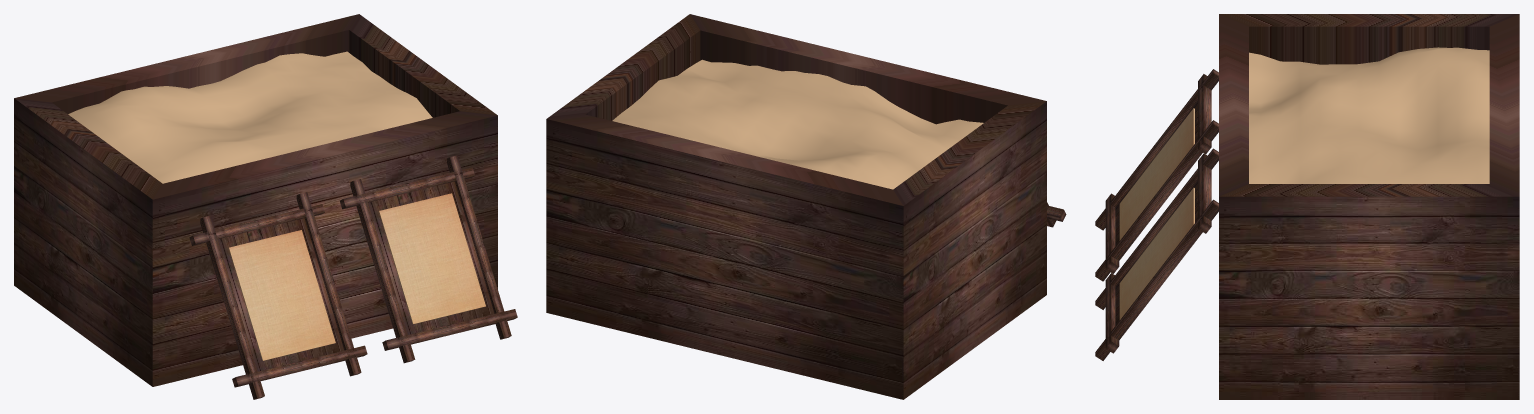
Rendered from 造纸术.fbx.
3 renders of one model, left to right at view 1: azimuth 30°, elevation 25°; view 2: azimuth 150°, elevation 25°; view 3: azimuth 270°, elevation 25°, orthographic. The views are drawn at different scales.
Parts seen in each view (by area): view 1: Box001, Box002, Box010, Box008, Box009, Box004; view 2: Box001, Box002; view 3: Box001, Box002, Box010, Box008, Box004, Box009.
Boxes of the visible parts, left/top/right/bottom form: Box001: left=14, top=14, right=497, bottom=386; Box002: left=68, top=51, right=432, bottom=183; Box010: left=340, top=155, right=517, bottom=363; Box008: left=189, top=192, right=367, bottom=399; Box009: left=378, top=193, right=485, bottom=324; Box004: left=228, top=230, right=335, bottom=360; Box001: left=546, top=14, right=1046, bottom=399; Box002: left=612, top=59, right=983, bottom=189; Box001: left=1219, top=14, right=1519, bottom=399; Box002: left=1249, top=47, right=1489, bottom=183; Box010: left=1095, top=148, right=1218, bottom=360; Box008: left=1095, top=69, right=1218, bottom=281; Box004: left=1119, top=108, right=1194, bottom=240; Box009: left=1119, top=187, right=1194, bottom=319.
Bounding box in the file's own units: 1232 × 646 × 1209.
